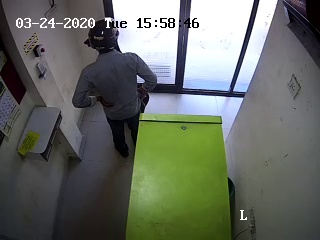helmet: (85, 18, 118, 55)
